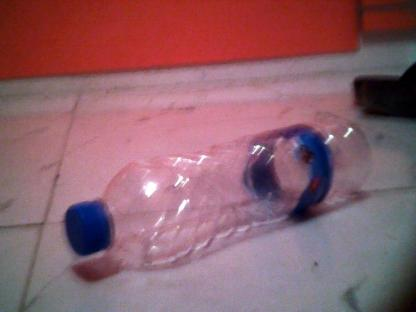Plastic Bottle: (64, 112, 374, 268)
